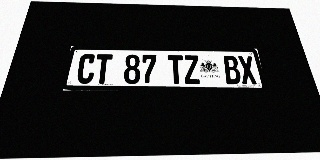7: (140, 55, 157, 84)
8: (123, 54, 141, 84)
B: (222, 56, 242, 84)
C: (76, 54, 96, 84)
T: (93, 54, 113, 84), (167, 55, 184, 84)
X: (237, 56, 258, 84)
Z: (183, 55, 201, 84)
